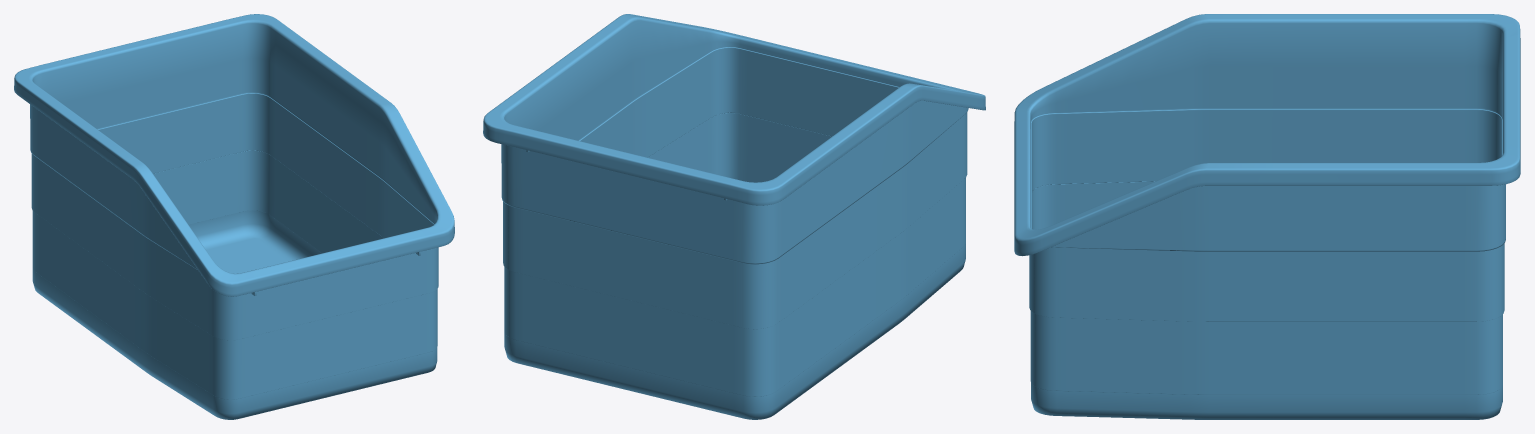
The model's file is container.glb.
3 views of the same model, side by side, from view 1: azimuth 30°, elevation 25°; view 2: azimuth 150°, elevation 25°; view 3: azimuth 270°, elevation 25° (orthographic). The views are drawn at different scales.
Visible parts, largest first — view 1: container; view 2: container; view 3: container.
Part boxes in pixels (x1,y1,x2,y2): container: [14, 14, 454, 419]; container: [483, 14, 985, 419]; container: [1014, 14, 1520, 419].
Size of the model in its own units: 19 by 14.92 by 26.
Materials: 1 (1 with a texture image).
